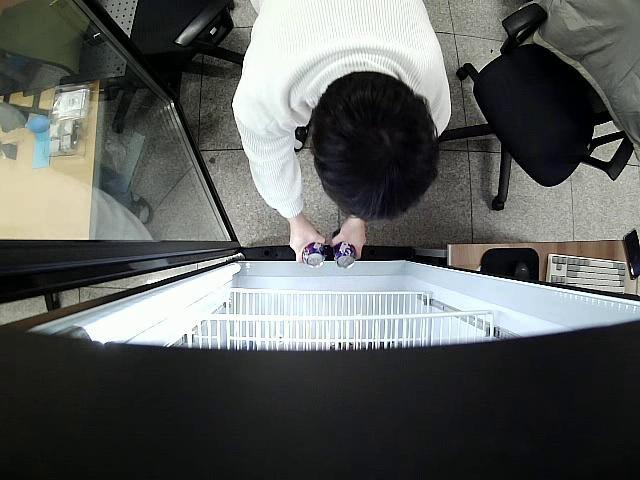14_welchsGrape: (332, 242, 356, 269), (301, 245, 326, 268)
